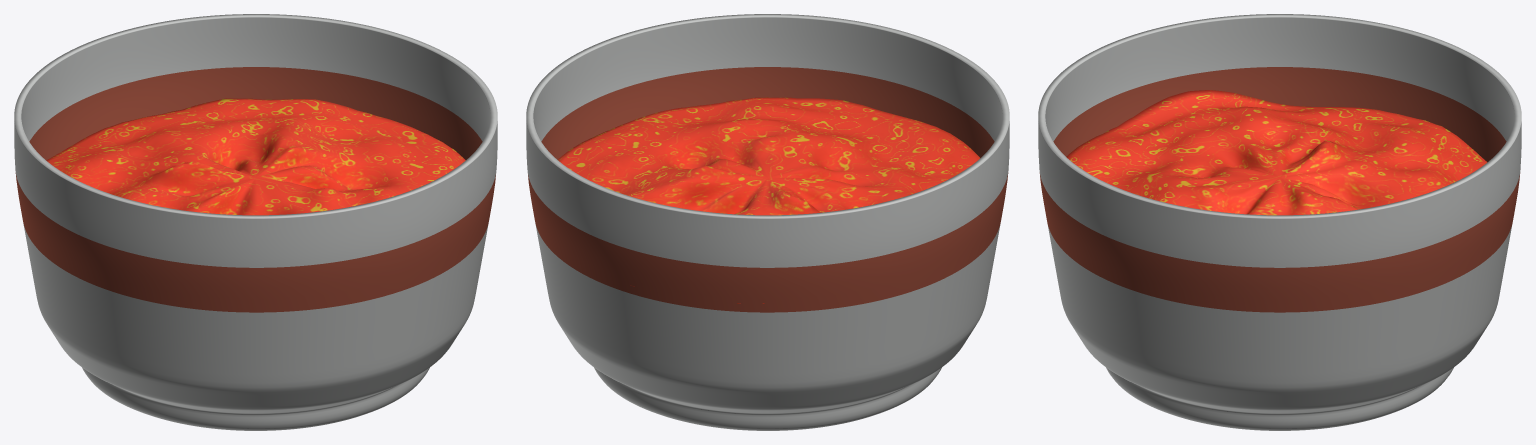
File: sambal.fbx
3 views of the same model, side by side, from view 1: azimuth 30°, elevation 25°; view 2: azimuth 150°, elevation 25°; view 3: azimuth 270°, elevation 25° (orthographic).
Visible parts, largest first — view 1: bowl, sambal; view 2: bowl, sambal; view 3: bowl, sambal.
Part boxes in pixels (<box>): bowl: <box>14,14,497,430</box>; sambal: <box>46,98,465,215</box>; bowl: <box>526,14,1009,430</box>; sambal: <box>558,97,979,303</box>; bowl: <box>1038,14,1521,430</box>; sambal: <box>1066,90,1487,215</box>.
Bounding box in the file's own units: 46.11 × 25.69 × 46.11.
Materials: 3 (1 with a texture image).
